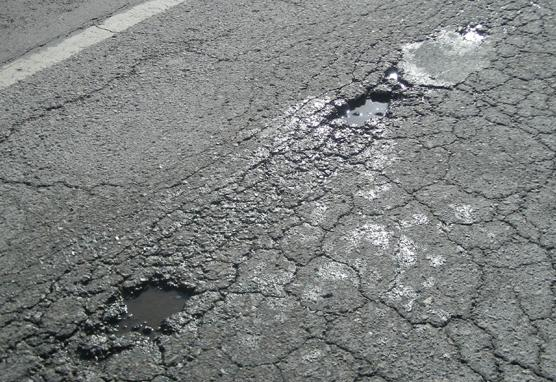pothole: (99, 268, 189, 334), (319, 80, 402, 140)
